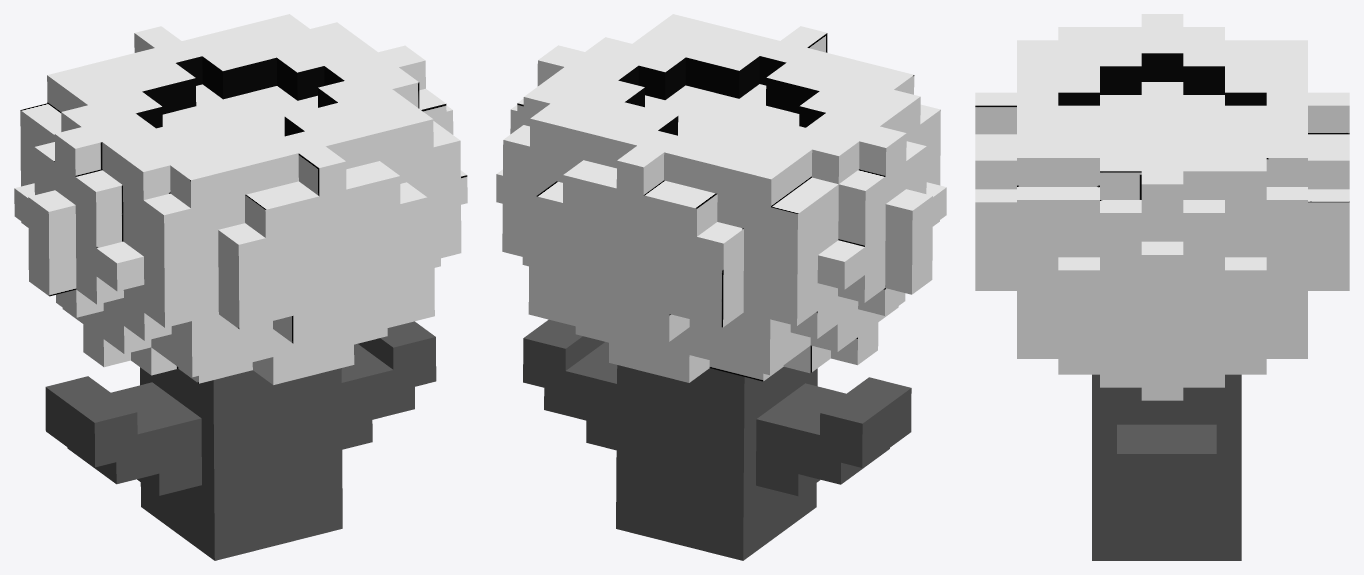
Rendered from RBY_Flower.glb.
3 renders of one model, left to right at view 1: azimuth 30°, elevation 25°; view 2: azimuth 150°, elevation 25°; view 3: azimuth 270°, elevation 25°, orthographic.
Visible parts, largest first — view 1: Cube, RBY_FlowerStem-1; view 2: Cube, RBY_FlowerStem-1; view 3: Cube, RBY_FlowerStem-1.
Boxes of the visible parts, box(x1,y1,x2,y2) form: Cube: box(14, 14, 467, 384); RBY_FlowerStem-1: box(45, 321, 436, 560); Cube: box(496, 14, 946, 382); RBY_FlowerStem-1: box(523, 319, 911, 560); Cube: box(975, 14, 1349, 400); RBY_FlowerStem-1: box(1092, 374, 1241, 560).
Bounding box in the file's own units: 0.2848 × 0.2857 × 0.2251.
Materials: 2 (1 with a texture image).
